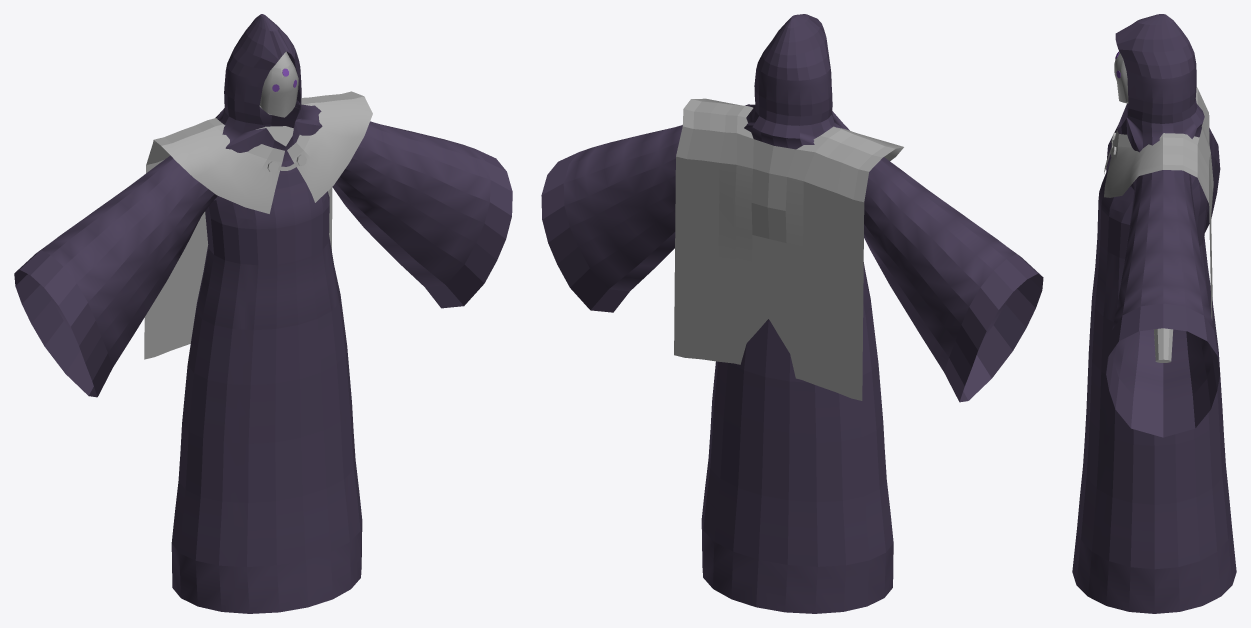
Rendered from Player01_MASTER.fbx.
3 views of the same model, side by side, from view 1: azimuth 30°, elevation 25°; view 2: azimuth 150°, elevation 25°; view 3: azimuth 270°, elevation 25° (orthographic).
Visible parts, largest first — view 1: Robe, Cape, Head; view 2: Robe, Cape; view 3: Robe, Cape, R_lowerArm, Head.
Part boxes in pixels (x1,y1,x2,y2): Robe: (14,14,512,613); Cape: (144,91,372,359); Head: (259,51,298,117); Robe: (541,14,1043,613); Cape: (674,98,903,400); Robe: (1072,14,1236,613); Cape: (1104,87,1213,320); R_lowerArm: (1154,328,1173,362); Head: (1114,51,1128,103).
Bounding box in the file's own units: 137 × 157 × 41.88.
